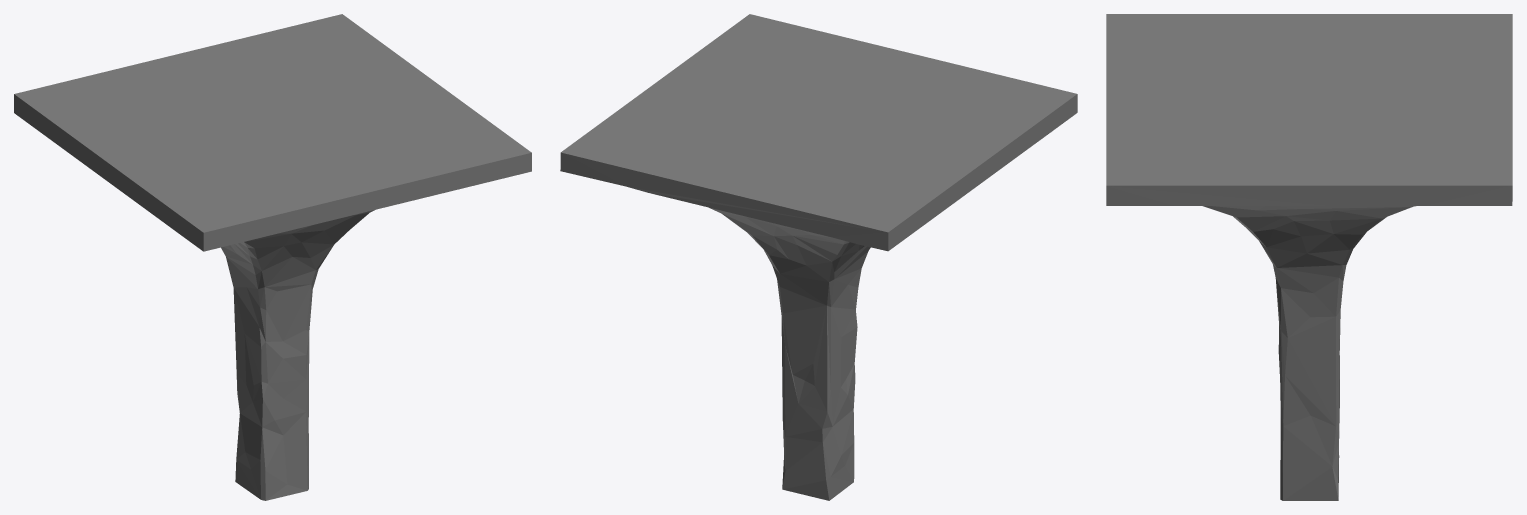
The model's file is modular_arch_a.FBX.
3 views of the same model, side by side, from view 1: azimuth 30°, elevation 25°; view 2: azimuth 150°, elevation 25°; view 3: azimuth 270°, elevation 25° (orthographic). The views are drawn at different scales.
Visible parts, largest first — view 1: modular_arch_a; view 2: modular_arch_a; view 3: modular_arch_a.
Part boxes in pixels (x1=…): modular_arch_a: x1=14, y1=14, x2=531, y2=500; modular_arch_a: x1=560, y1=14, x2=1077, y2=500; modular_arch_a: x1=1106, y1=14, x2=1512, y2=500.
Bounding box in the file's own units: 9 × 9.5 × 9.
